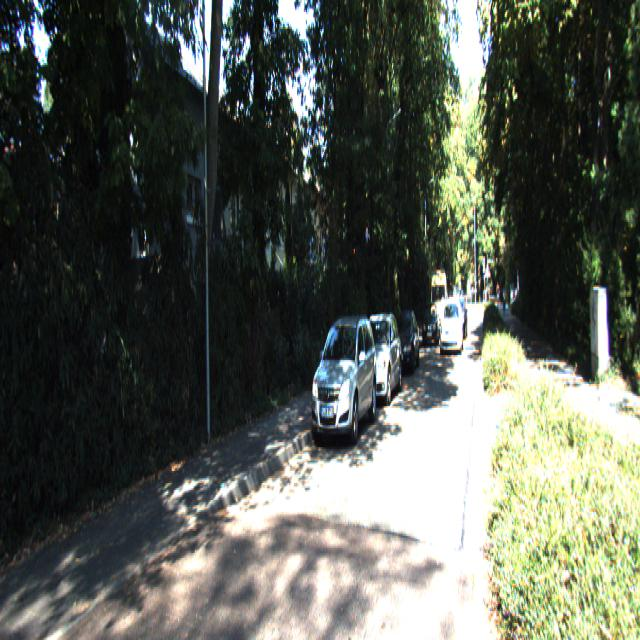Car: (310, 312, 378, 452), (354, 312, 404, 407), (392, 307, 421, 374), (430, 266, 449, 336), (440, 298, 462, 356), (422, 300, 439, 346)
